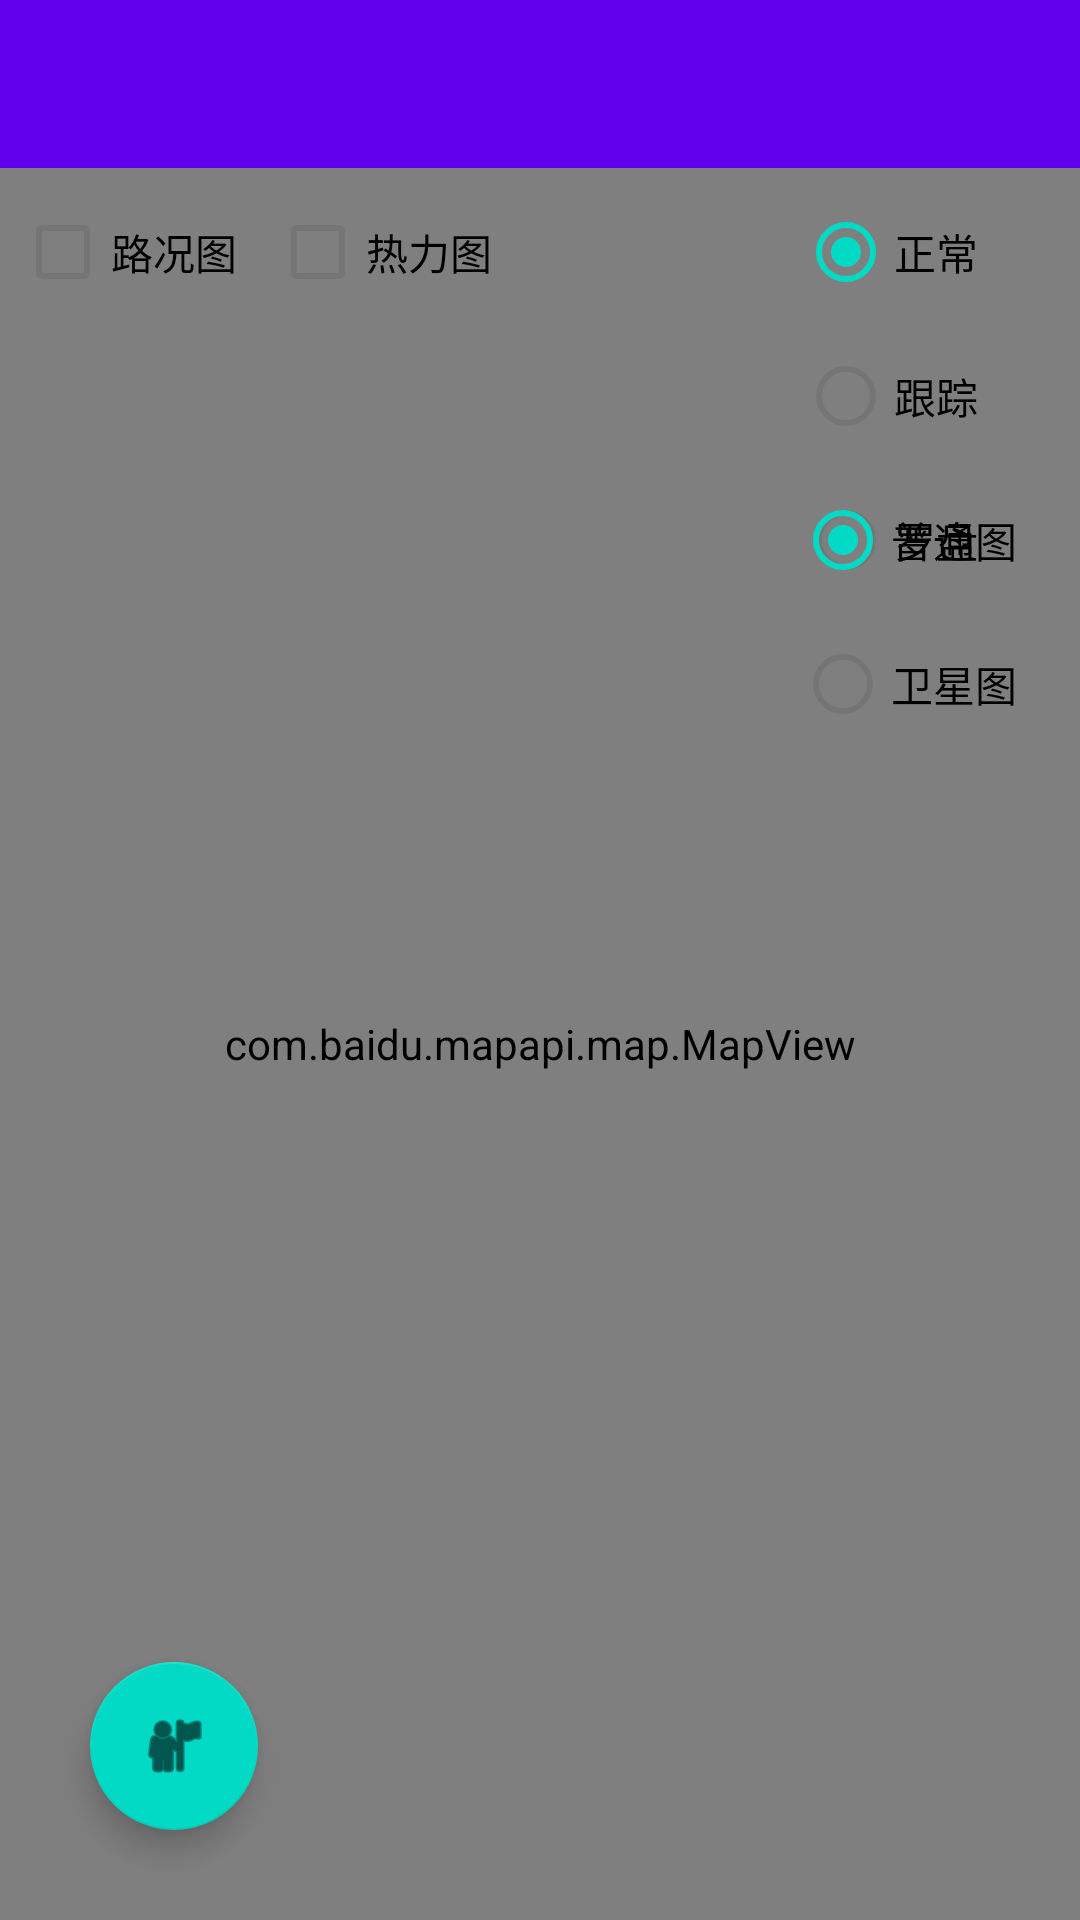

Named icons in this screenshot (1080x1920) and their centers, point (x, y):
myplaces: point (174, 1746)
